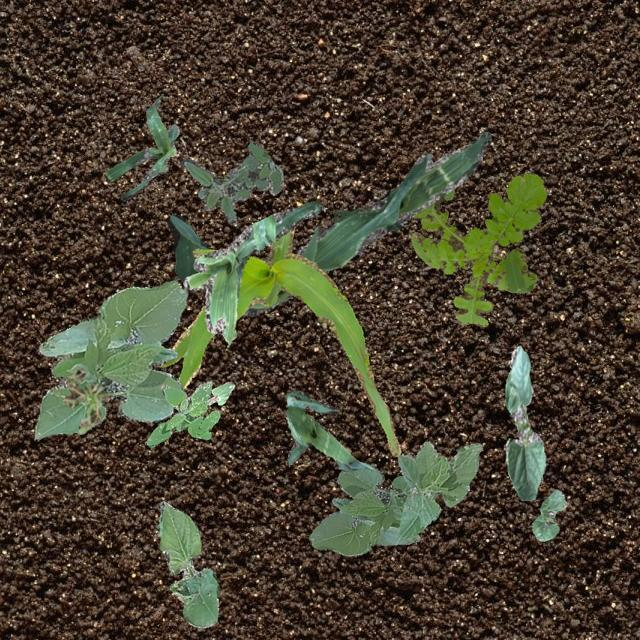crop: (167, 132, 490, 316), (160, 225, 400, 456), (34, 280, 186, 440), (182, 200, 320, 342), (308, 466, 438, 554), (396, 440, 482, 540), (156, 501, 218, 626), (104, 96, 178, 200), (284, 388, 372, 471), (504, 346, 544, 500), (530, 488, 566, 540), (185, 380, 232, 404)
weed: (410, 172, 546, 326), (180, 140, 282, 224), (146, 380, 220, 446), (62, 368, 110, 432)
